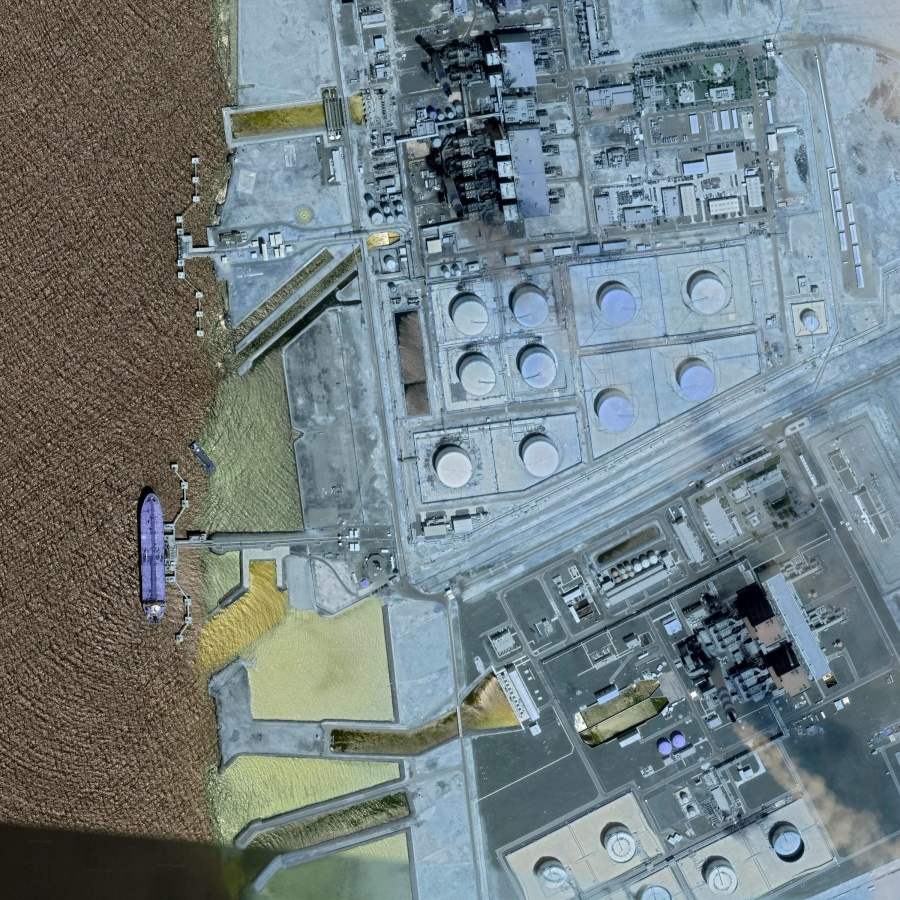PowerPlant: (382, 246, 762, 509)
